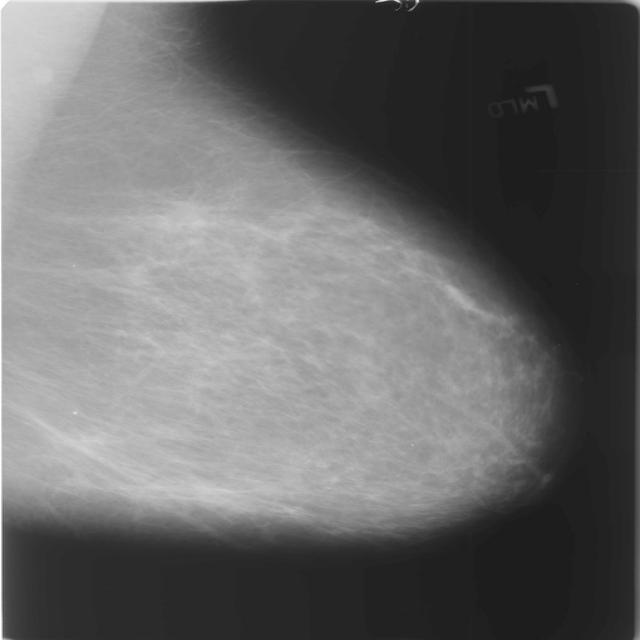tumour: (154, 198, 213, 235)
